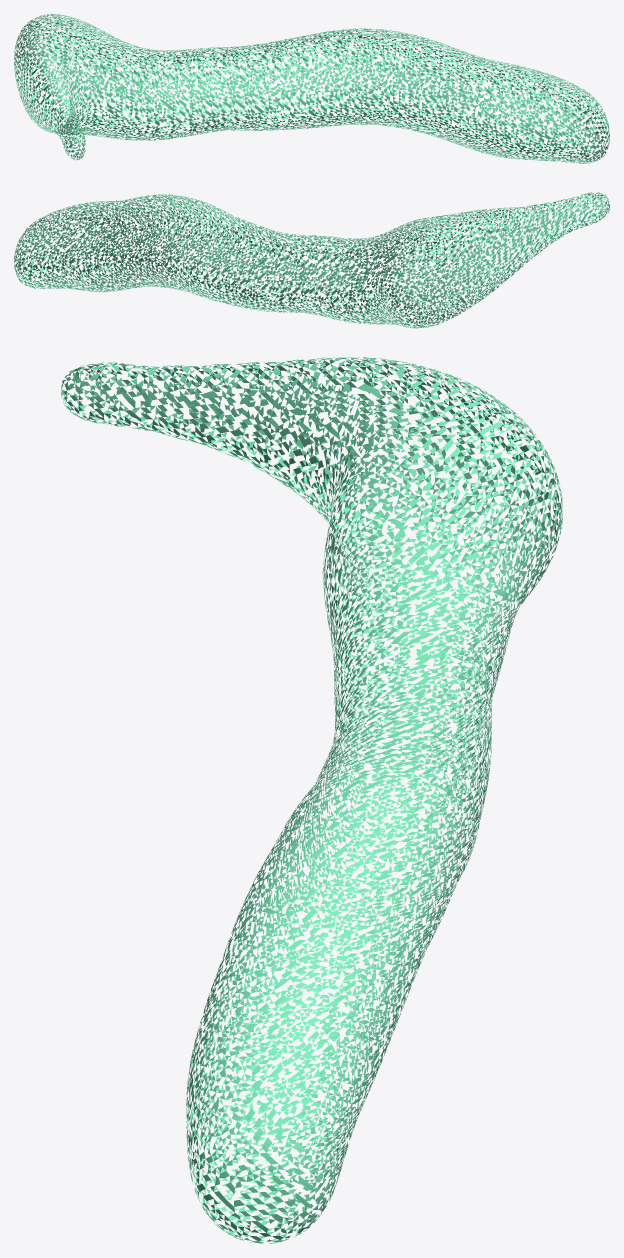
File: healthy.glb
3 views of the same model, one above another, from view 1: azimuth 30°, elevation 25°; view 2: azimuth 150°, elevation 25°; view 3: azimuth 270°, elevation 25° (orthographic). The views are drawn at different scales.
Size of the model in its own units: 132 by 48.95 by 53.13.
